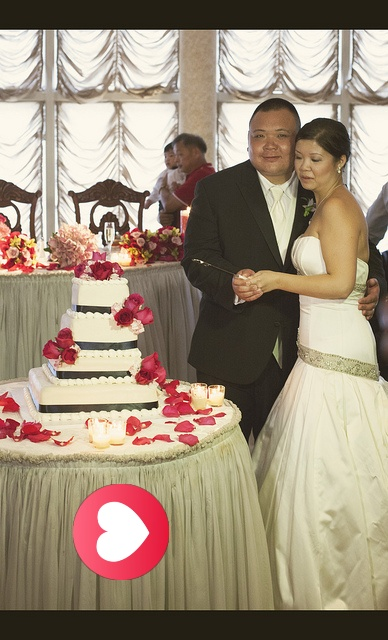love: (73, 484, 169, 580)
